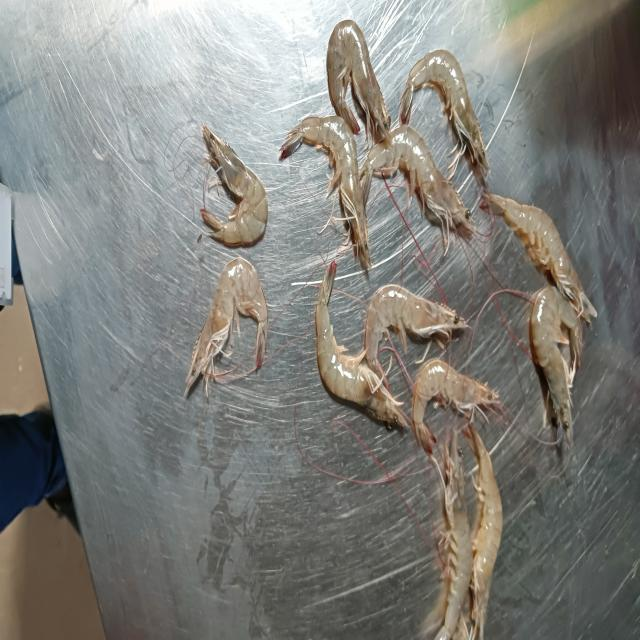shrimp: (315, 261, 410, 427), (480, 193, 596, 323), (360, 126, 475, 250), (280, 115, 371, 270), (399, 49, 490, 186), (185, 257, 268, 396), (364, 283, 468, 372), (462, 423, 502, 640), (412, 359, 499, 454), (326, 20, 391, 146), (201, 124, 268, 246), (435, 429, 472, 640), (529, 286, 582, 432)
